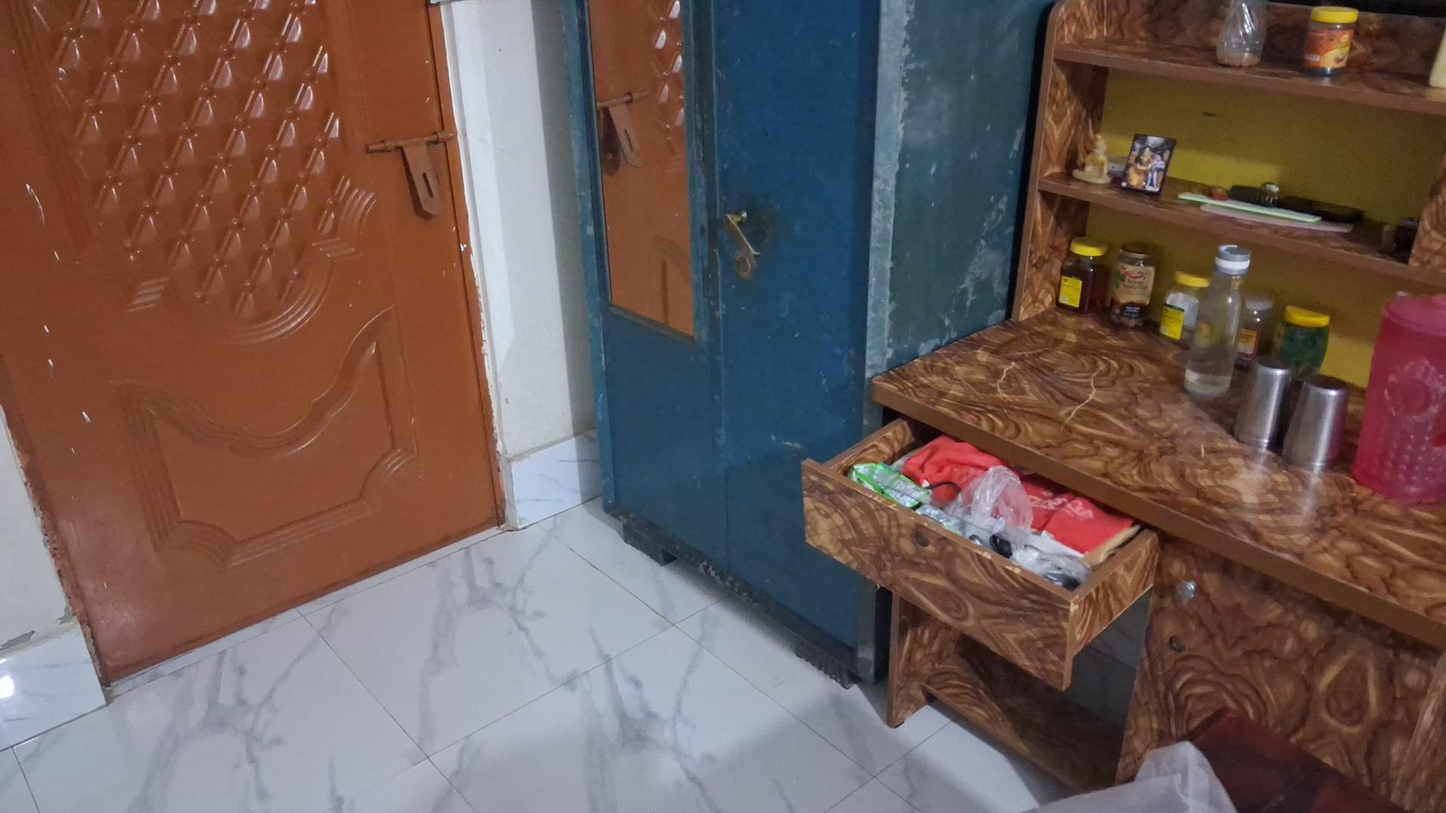Bottle: (1182, 244, 1252, 398)
Door: (0, 7, 523, 675)
Drawer: (790, 379, 1173, 693)
Glass: (1280, 375, 1350, 473), (1233, 357, 1286, 461)
Jar: (1056, 238, 1109, 314), (1305, 10, 1356, 82), (1274, 307, 1323, 379), (1163, 275, 1202, 354), (1115, 251, 1154, 329)
Jug: (1366, 287, 1446, 505)
Mirror: (581, 2, 725, 338)
